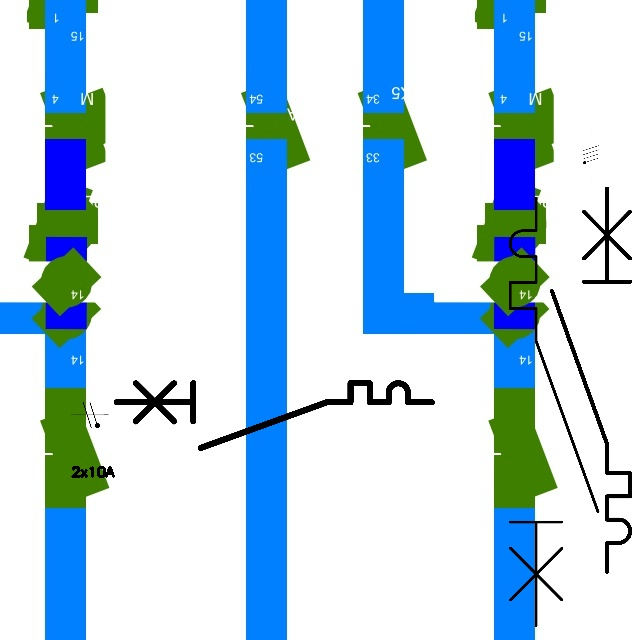interruptor_termomagnetico: (499, 187, 609, 637), (542, 178, 640, 581), (108, 375, 440, 456)
